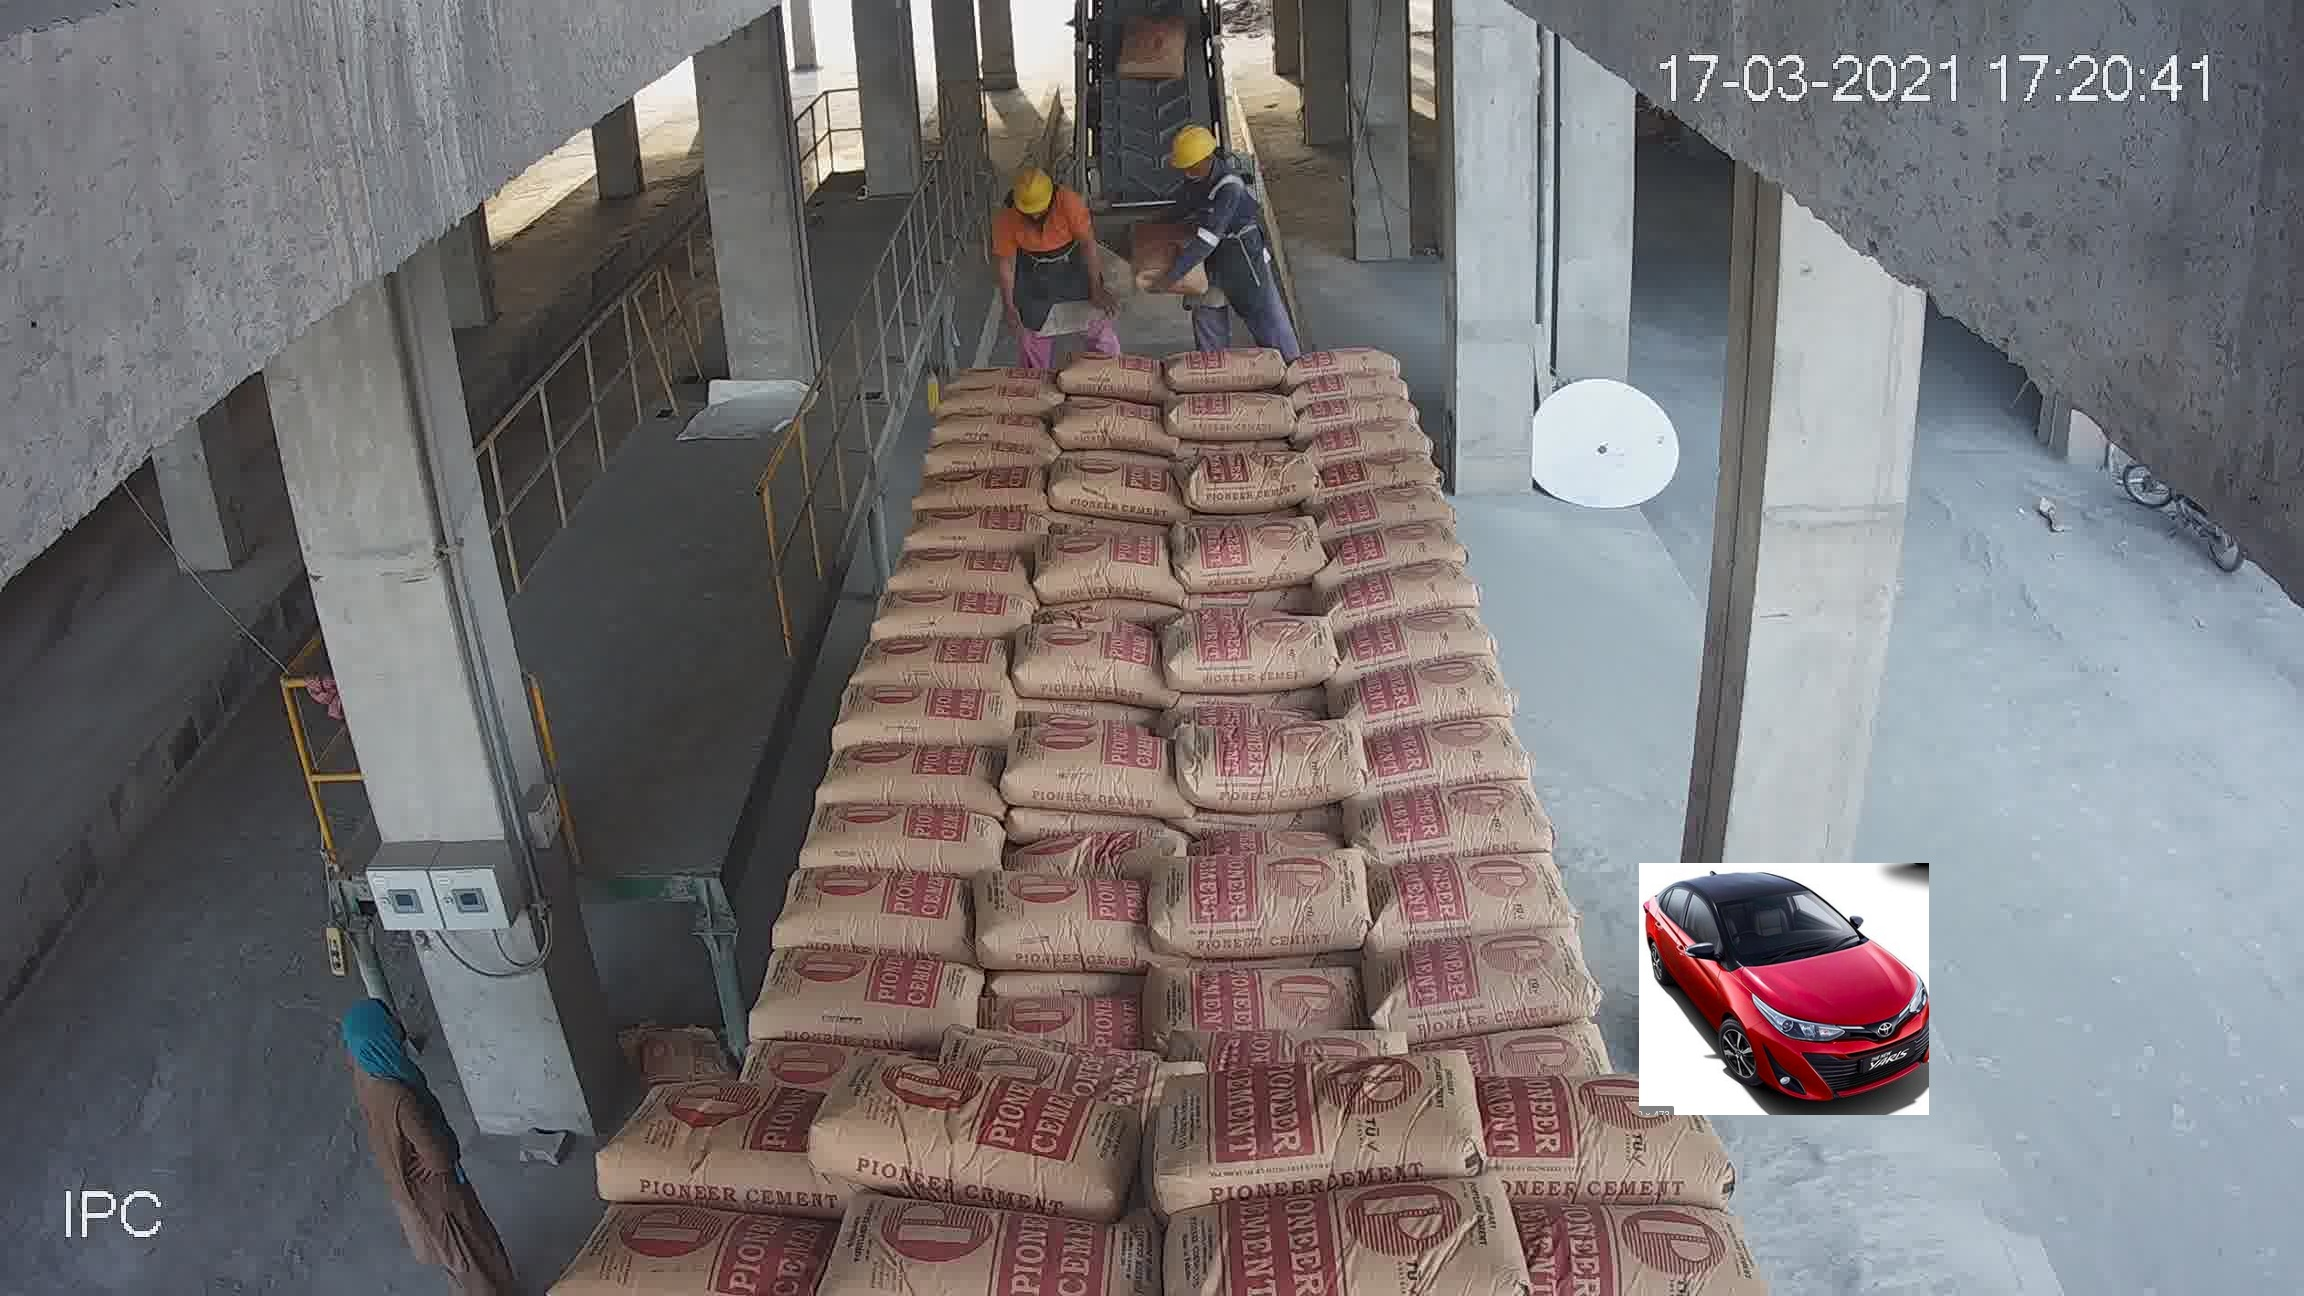bag: (1060, 510, 1269, 688), (1079, 138, 1214, 283)
bag_h: (1135, 1052, 1491, 1215), (1139, 1161, 1533, 1296), (829, 1074, 1152, 1217), (1135, 916, 1461, 1052), (1143, 812, 1431, 964), (856, 820, 1177, 956), (563, 1067, 796, 1228), (873, 949, 1171, 1067), (1480, 1060, 1700, 1215), (635, 949, 894, 1079), (652, 848, 907, 976), (1494, 1190, 1777, 1296), (543, 1207, 831, 1296), (1472, 953, 1692, 1067), (824, 1218, 1139, 1296), (1429, 847, 1620, 970), (1131, 775, 1378, 862), (783, 785, 973, 881), (1400, 775, 1541, 856), (794, 726, 951, 794), (832, 674, 930, 753), (1432, 715, 1529, 790), (1070, 767, 1166, 839), (1158, 718, 1260, 783), (1044, 725, 1158, 769)
belt: (987, 43, 1310, 579)
